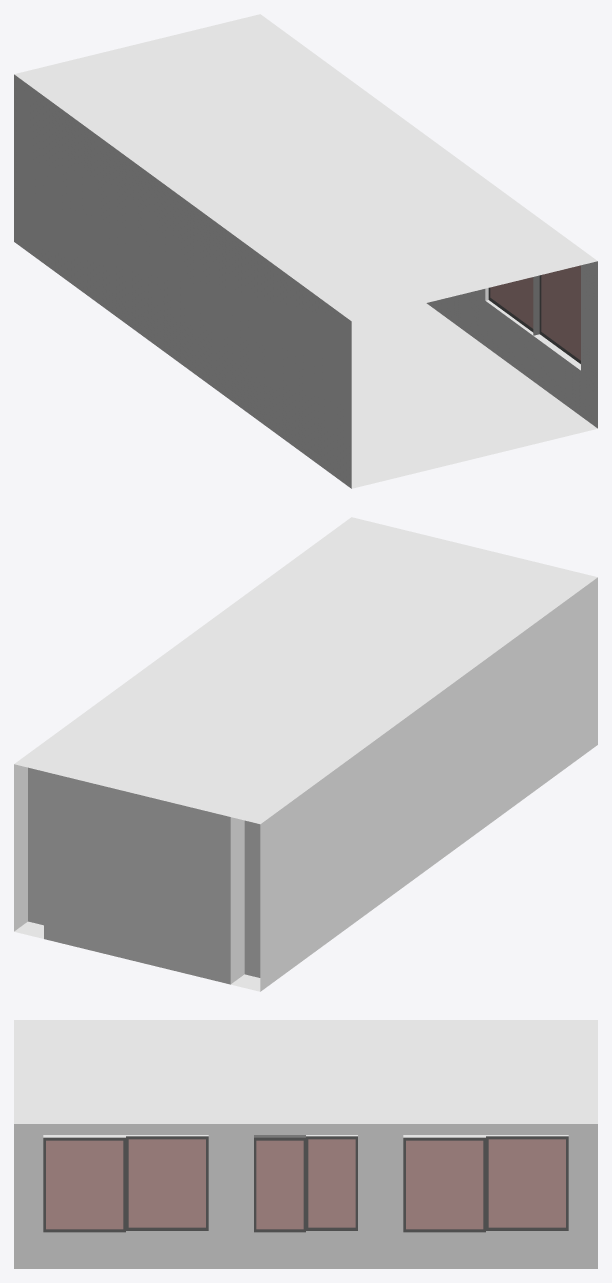
Rendered from FANGJIAN.fbx.
The picture shows the model from 3 angles, top to bottom: view 1: azimuth 30°, elevation 25°; view 2: azimuth 150°, elevation 25°; view 3: azimuth 270°, elevation 25°; orthographic projection. The views are drawn at different scales.
Parts seen in each view (by area): view 1: Box485; view 2: Box485; view 3: Box485.
Boxes of the visible parts, x1,y1,x2,y2 form: Box485: (14, 14, 597, 488); Box485: (14, 517, 597, 991); Box485: (14, 1020, 597, 1268).
Size of the model in its own units: 312361 by 197740 by 722044.
